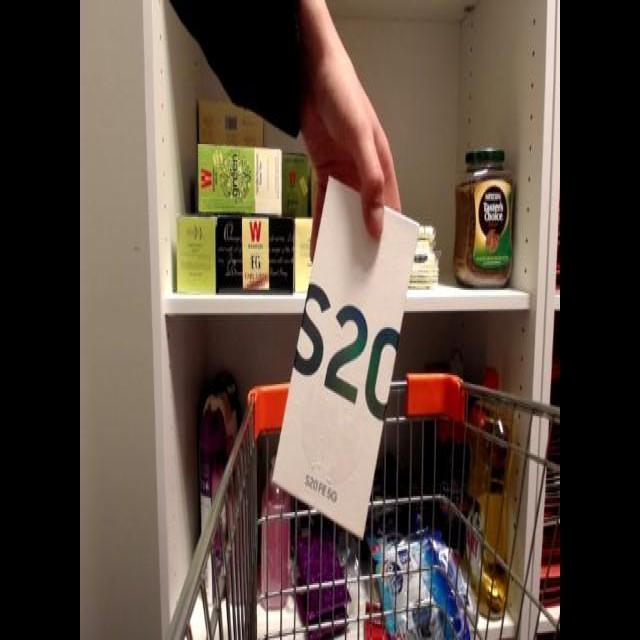Samsung S20: (269, 177, 425, 538)
